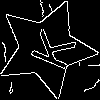K: (21, 23, 77, 72)
